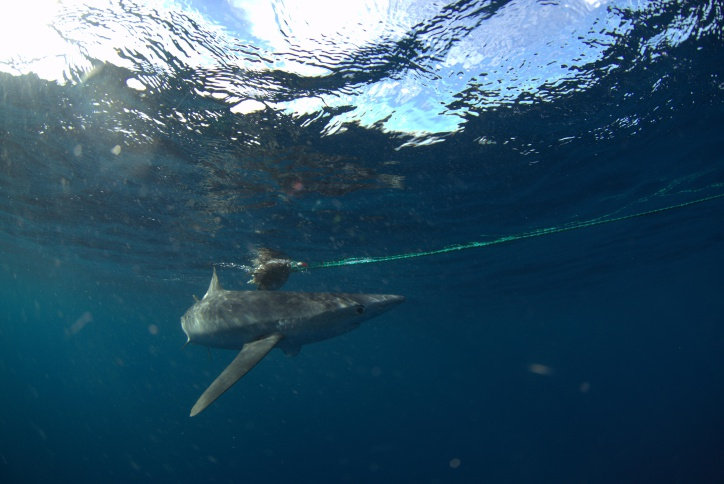Azul: (143, 248, 423, 444)
